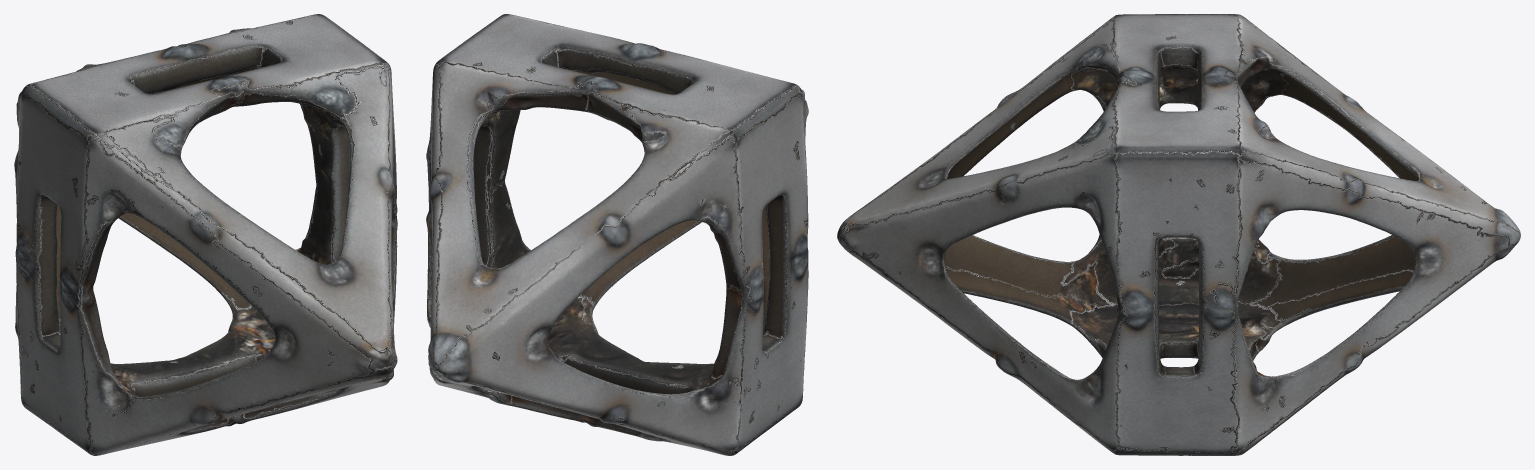
3 views of the same model, side by side, from view 1: azimuth 30°, elevation 25°; view 2: azimuth 150°, elevation 25°; view 3: azimuth 270°, elevation 25° (orthographic). The views are drawn at different scales.
Size of the model in its own units: 1.05 by 1.04 by 2.
Materials: 1 (1 with a texture image).
